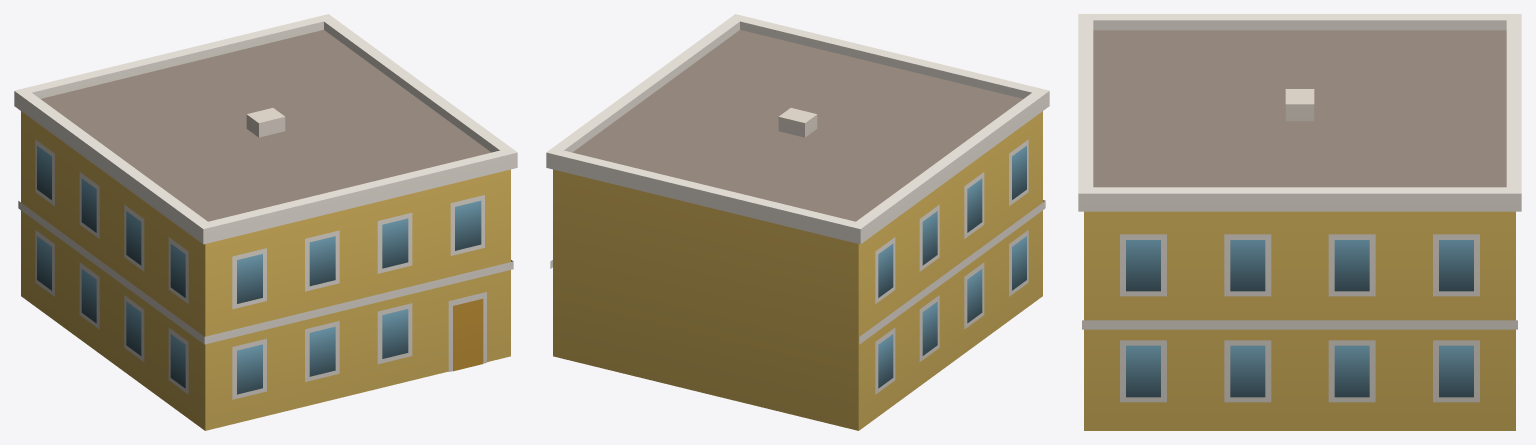
The model's file is vee_right4_far.glb.
3 views of the same model, side by side, from view 1: azimuth 30°, elevation 25°; view 2: azimuth 150°, elevation 25°; view 3: azimuth 270°, elevation 25° (orthographic). The views are drawn at different scales.
Visible parts, largest first — view 1: vee_right4_far; view 2: vee_right4_far; view 3: vee_right4_far.
Part boxes in pixels (x1,y1,x2,y2): vee_right4_far: [14, 14, 517, 430]; vee_right4_far: [546, 14, 1049, 430]; vee_right4_far: [1078, 14, 1521, 430].
Size of the model in its own units: 11.82 by 7.57 by 12.32.
Materials: 1 (1 with a texture image).
